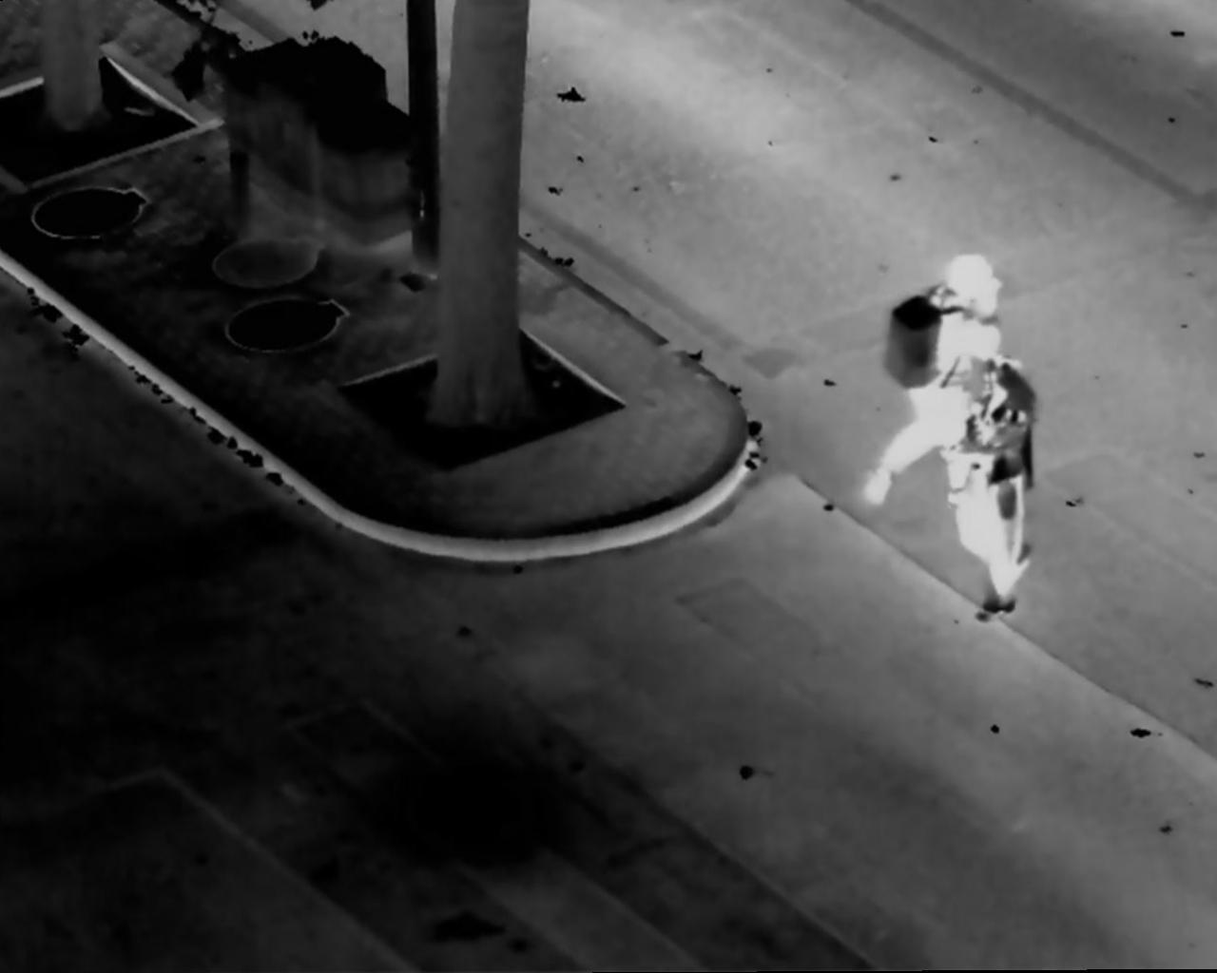person: (870, 249, 1004, 519), (947, 359, 1055, 627)
